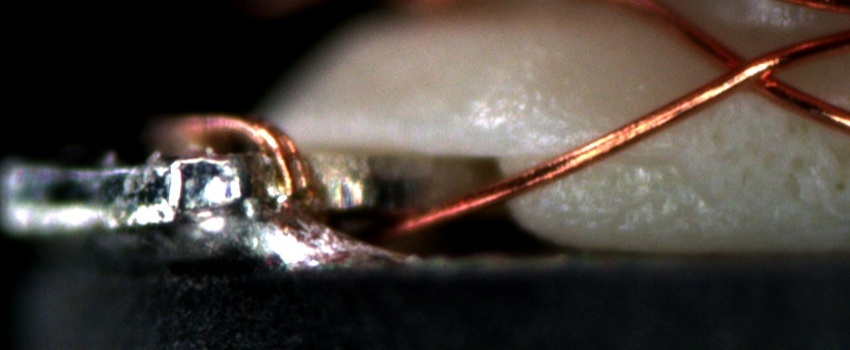CL: (698, 39, 796, 100)
DL: (530, 141, 677, 183)
TE: (159, 109, 318, 213)
